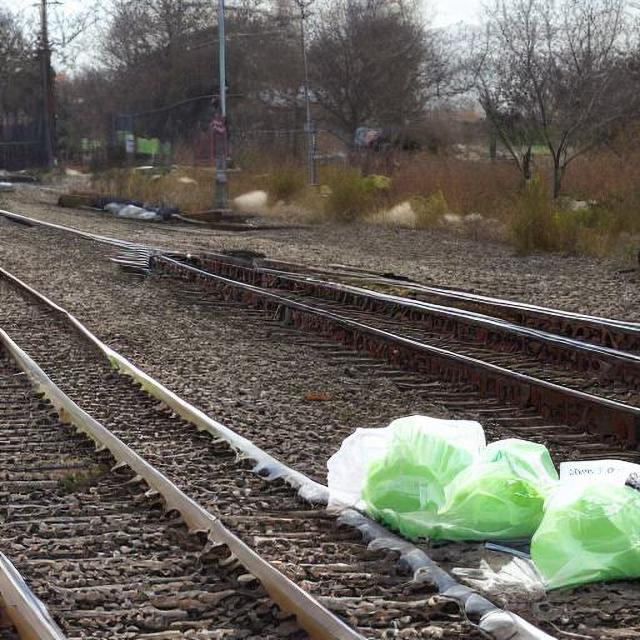plastic bag: (322, 398, 639, 588)
